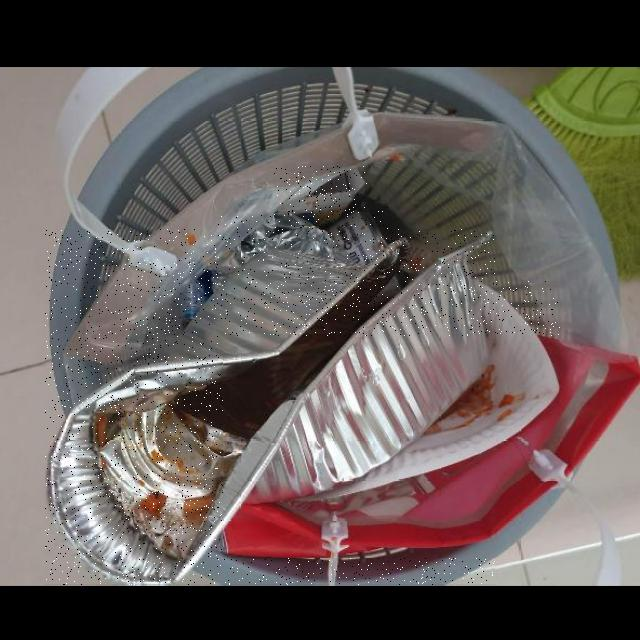metal: (45, 230, 495, 585), (208, 212, 354, 294), (323, 207, 389, 265)
paper: (223, 336, 640, 558), (300, 281, 560, 500), (274, 167, 367, 226)
